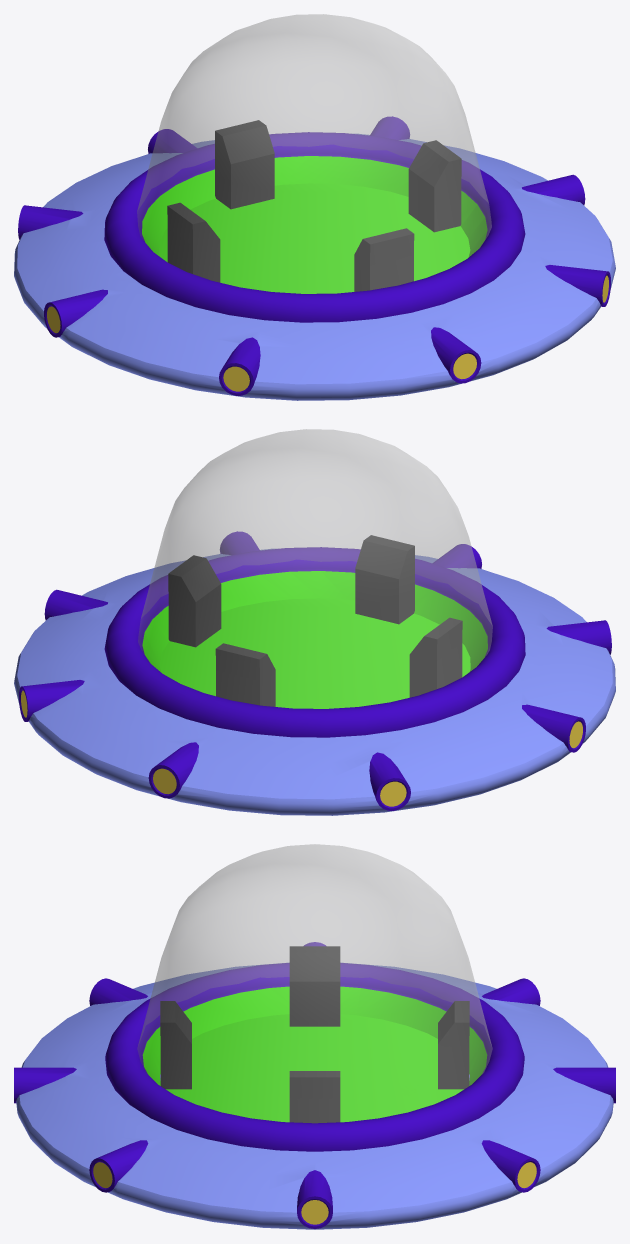
File: UFO.fbx
The picture shows the model from 3 angles, top to bottom: view 1: azimuth 30°, elevation 25°; view 2: azimuth 150°, elevation 25°; view 3: azimuth 270°, elevation 25°; orthographic projection.
Visible parts, largest first — view 1: UFO_Base, Glass; view 2: UFO_Base, Glass; view 3: UFO_Base, Glass.
Boxes of the visible parts, bbox=[...] form: UFO_Base: bbox=[14, 116, 615, 400]; Glass: bbox=[137, 14, 491, 293]; UFO_Base: bbox=[14, 531, 615, 815]; Glass: bbox=[138, 429, 492, 708]; UFO_Base: bbox=[14, 942, 615, 1229]; Glass: bbox=[137, 844, 492, 1122].
Size of the model in its own units: 10.05 by 5.22 by 10.05.
2 materials, 1 textured.
